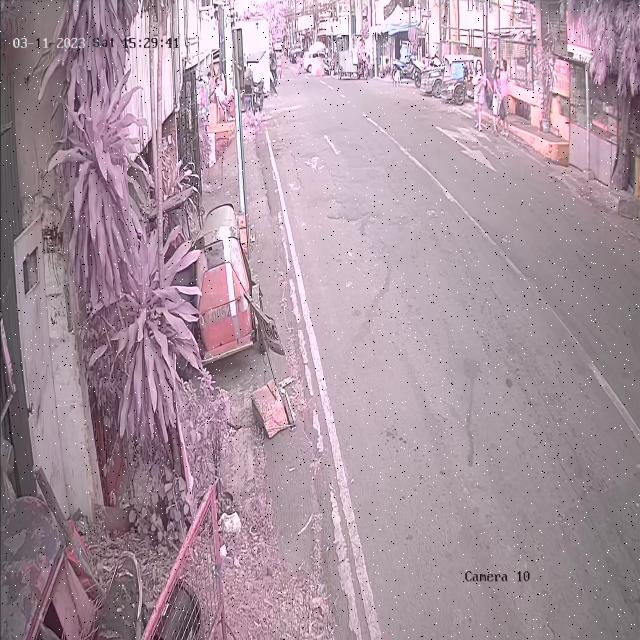human: (492, 68, 506, 133), (476, 55, 486, 134)
trash: (498, 94, 508, 125)
